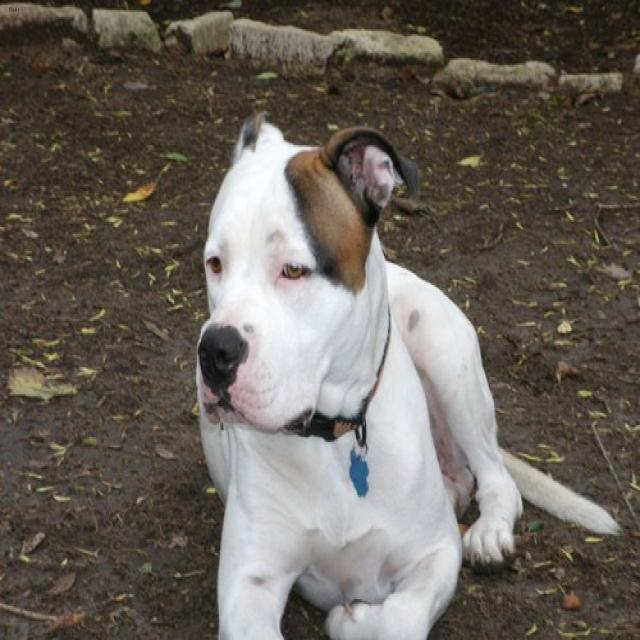dog-american_bulldog: (189, 99, 628, 637)
